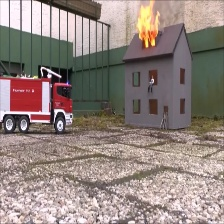fire: (131, 1, 165, 49)
